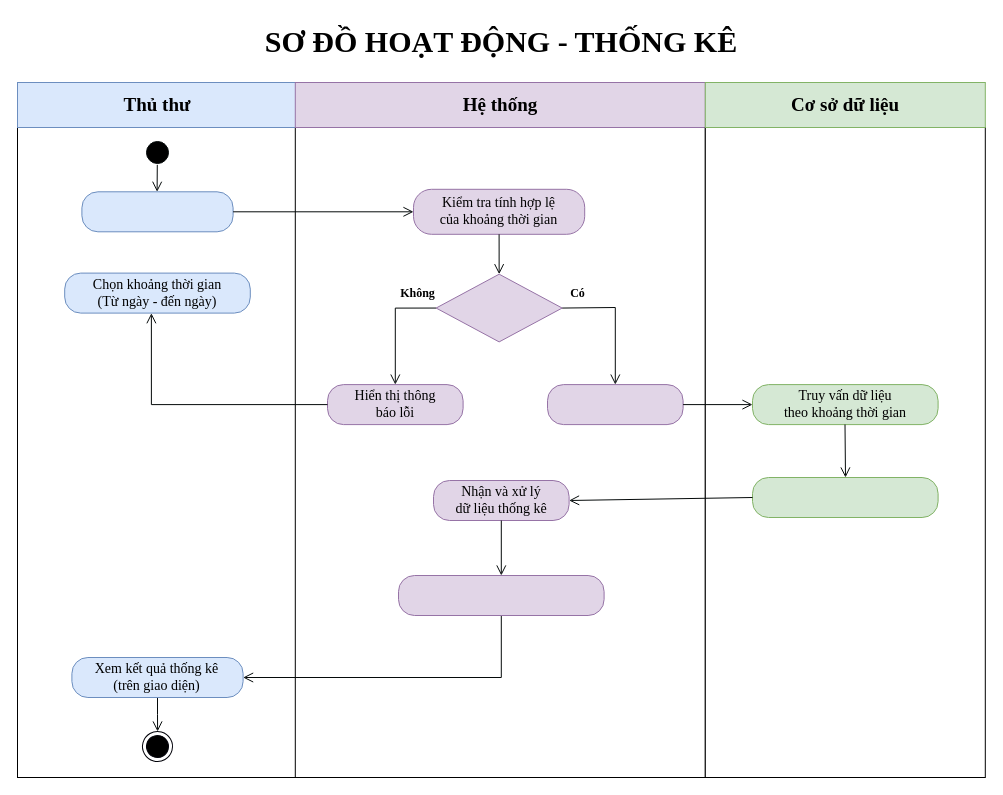
This 1003x795 diagram has some shape labels left out. The box of each missing label's shape, as (x1, y1, x2, y2) in pixels:
Chọn chức năng thống kê: (81, 191, 233, 232)
Gửi yêu cầu lấy dữ liệu thống kê: (546, 384, 683, 425)
Hiển thị kết quả thống kê lên giao diện: (398, 574, 604, 616)
Hợp lệ?: (435, 273, 562, 342)
Trả về dữ liệu thống kê: (752, 476, 938, 518)
